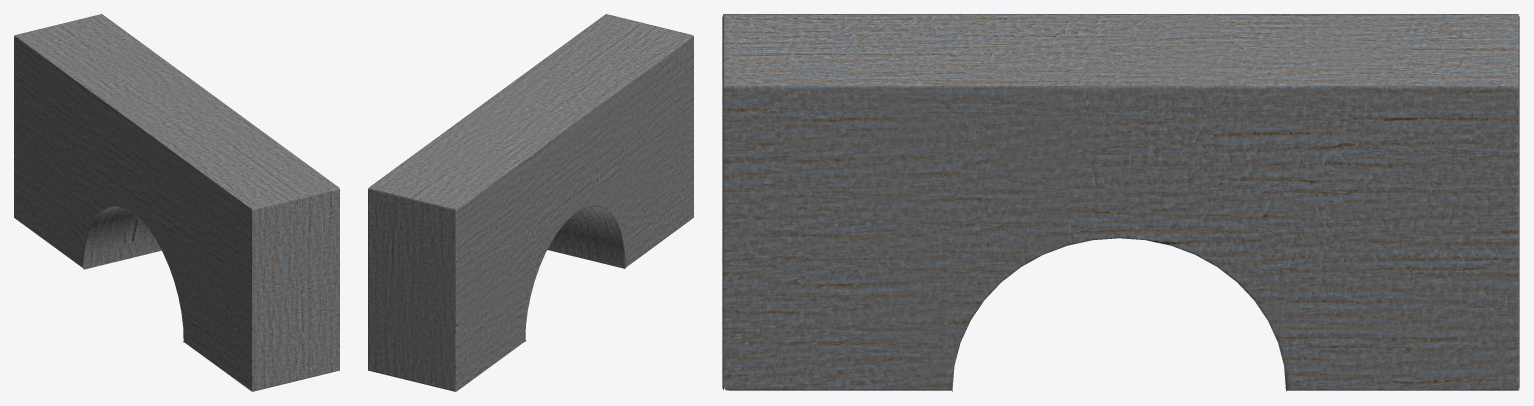
File: High Arch UVed OBJ.obj
3 views of the same model, side by side, from view 1: azimuth 30°, elevation 25°; view 2: azimuth 150°, elevation 25°; view 3: azimuth 270°, elevation 25° (orthographic). The views are drawn at different scales.
Visible parts, largest first — view 1: pCube9; view 2: pCube9; view 3: pCube9.
Part boxes in pixels (x1,y1,x2,y2): pCube9: [14, 14, 339, 391]; pCube9: [368, 14, 693, 391]; pCube9: [722, 14, 1519, 391].
Bounding box in the file's own units: 97.94 × 191 × 450.
Materials: 1 (1 with a texture image).
